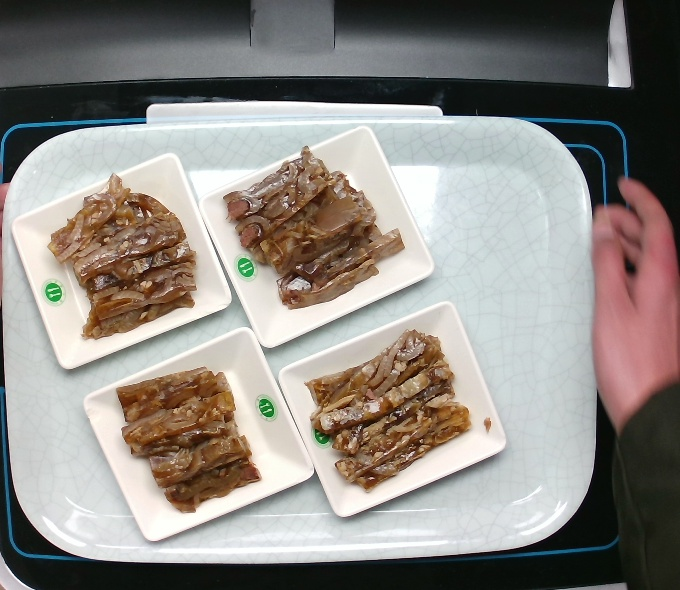wcq-DongZhuPi: (226, 152, 407, 310), (52, 175, 206, 347), (312, 325, 464, 487), (110, 361, 270, 514)
